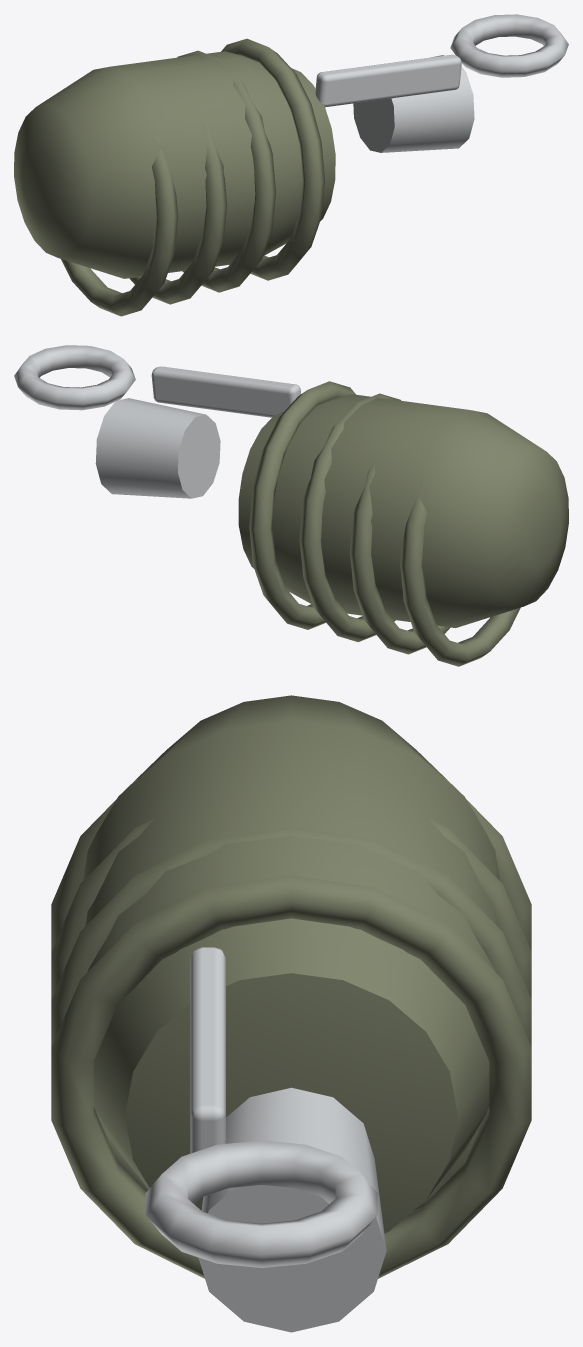
File: battle-royale-town-and-airfield-frag-grenade-958e9494__28239.glb
3 renders of one model, top to bottom at view 1: azimuth 30°, elevation 25°; view 2: azimuth 150°, elevation 25°; view 3: azimuth 270°, elevation 25°, orthographic. The views are drawn at different scales.
Parts seen in each view (by area): view 1: frag-grenade; view 2: frag-grenade; view 3: frag-grenade.
Part boxes in pixels (x1,y1,x2,y2): frag-grenade: (14,14,568,316); frag-grenade: (14,345,568,666); frag-grenade: (51,695,531,1332).
Bounding box in the file's own units: 0.2007 × 0.0844 × 0.0808.
